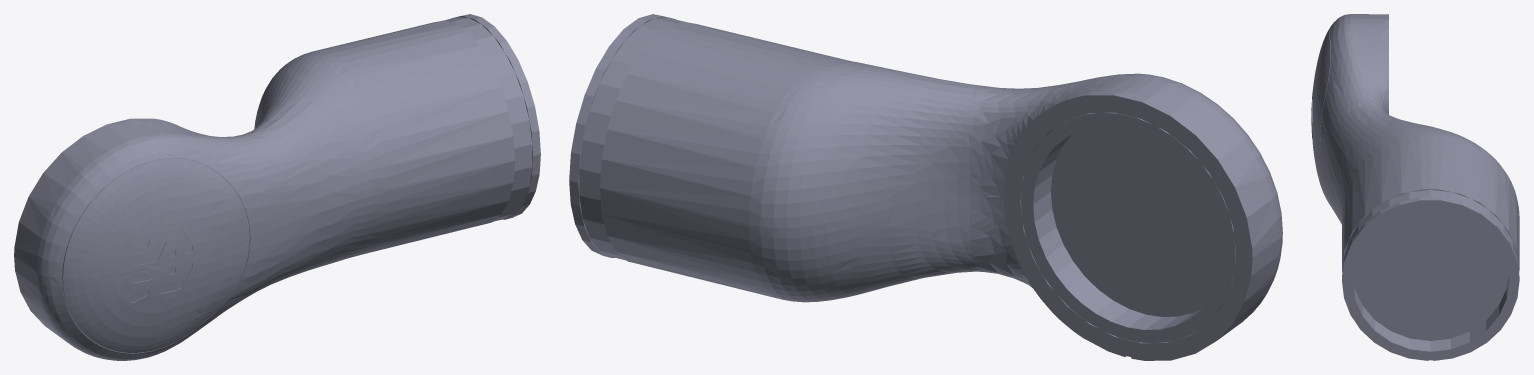
File: arm2_link2_visuals.obj
3 renders of one model, left to right at view 1: azimuth 30°, elevation 25°; view 2: azimuth 150°, elevation 25°; view 3: azimuth 270°, elevation 25°, orthographic. The views are drawn at different scales.
Size of the model in its own units: 0.193 by 0.081 by 0.082.
